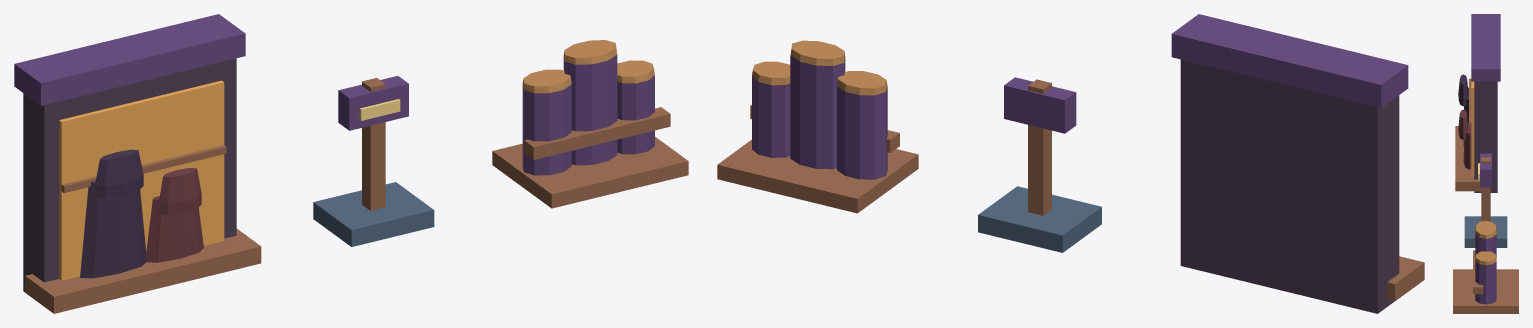
Rendered from ina-fireworks-model.obj.
3 renders of one model, left to right at view 1: azimuth 30°, elevation 25°; view 2: azimuth 150°, elevation 25°; view 3: azimuth 270°, elevation 25°, orthographic. The views are drawn at different scales.
Visible parts, largest first — view 1: HarborFireworks; view 2: HarborFireworks; view 3: HarborFireworks.
Boxes of the visible parts, x1,y1,x2,y2 form: HarborFireworks: (14,14,688,313); HarborFireworks: (717,14,1424,313); HarborFireworks: (1453,14,1518,313).
Bounding box in the file's own units: 4.67 × 1.65 × 0.76.
